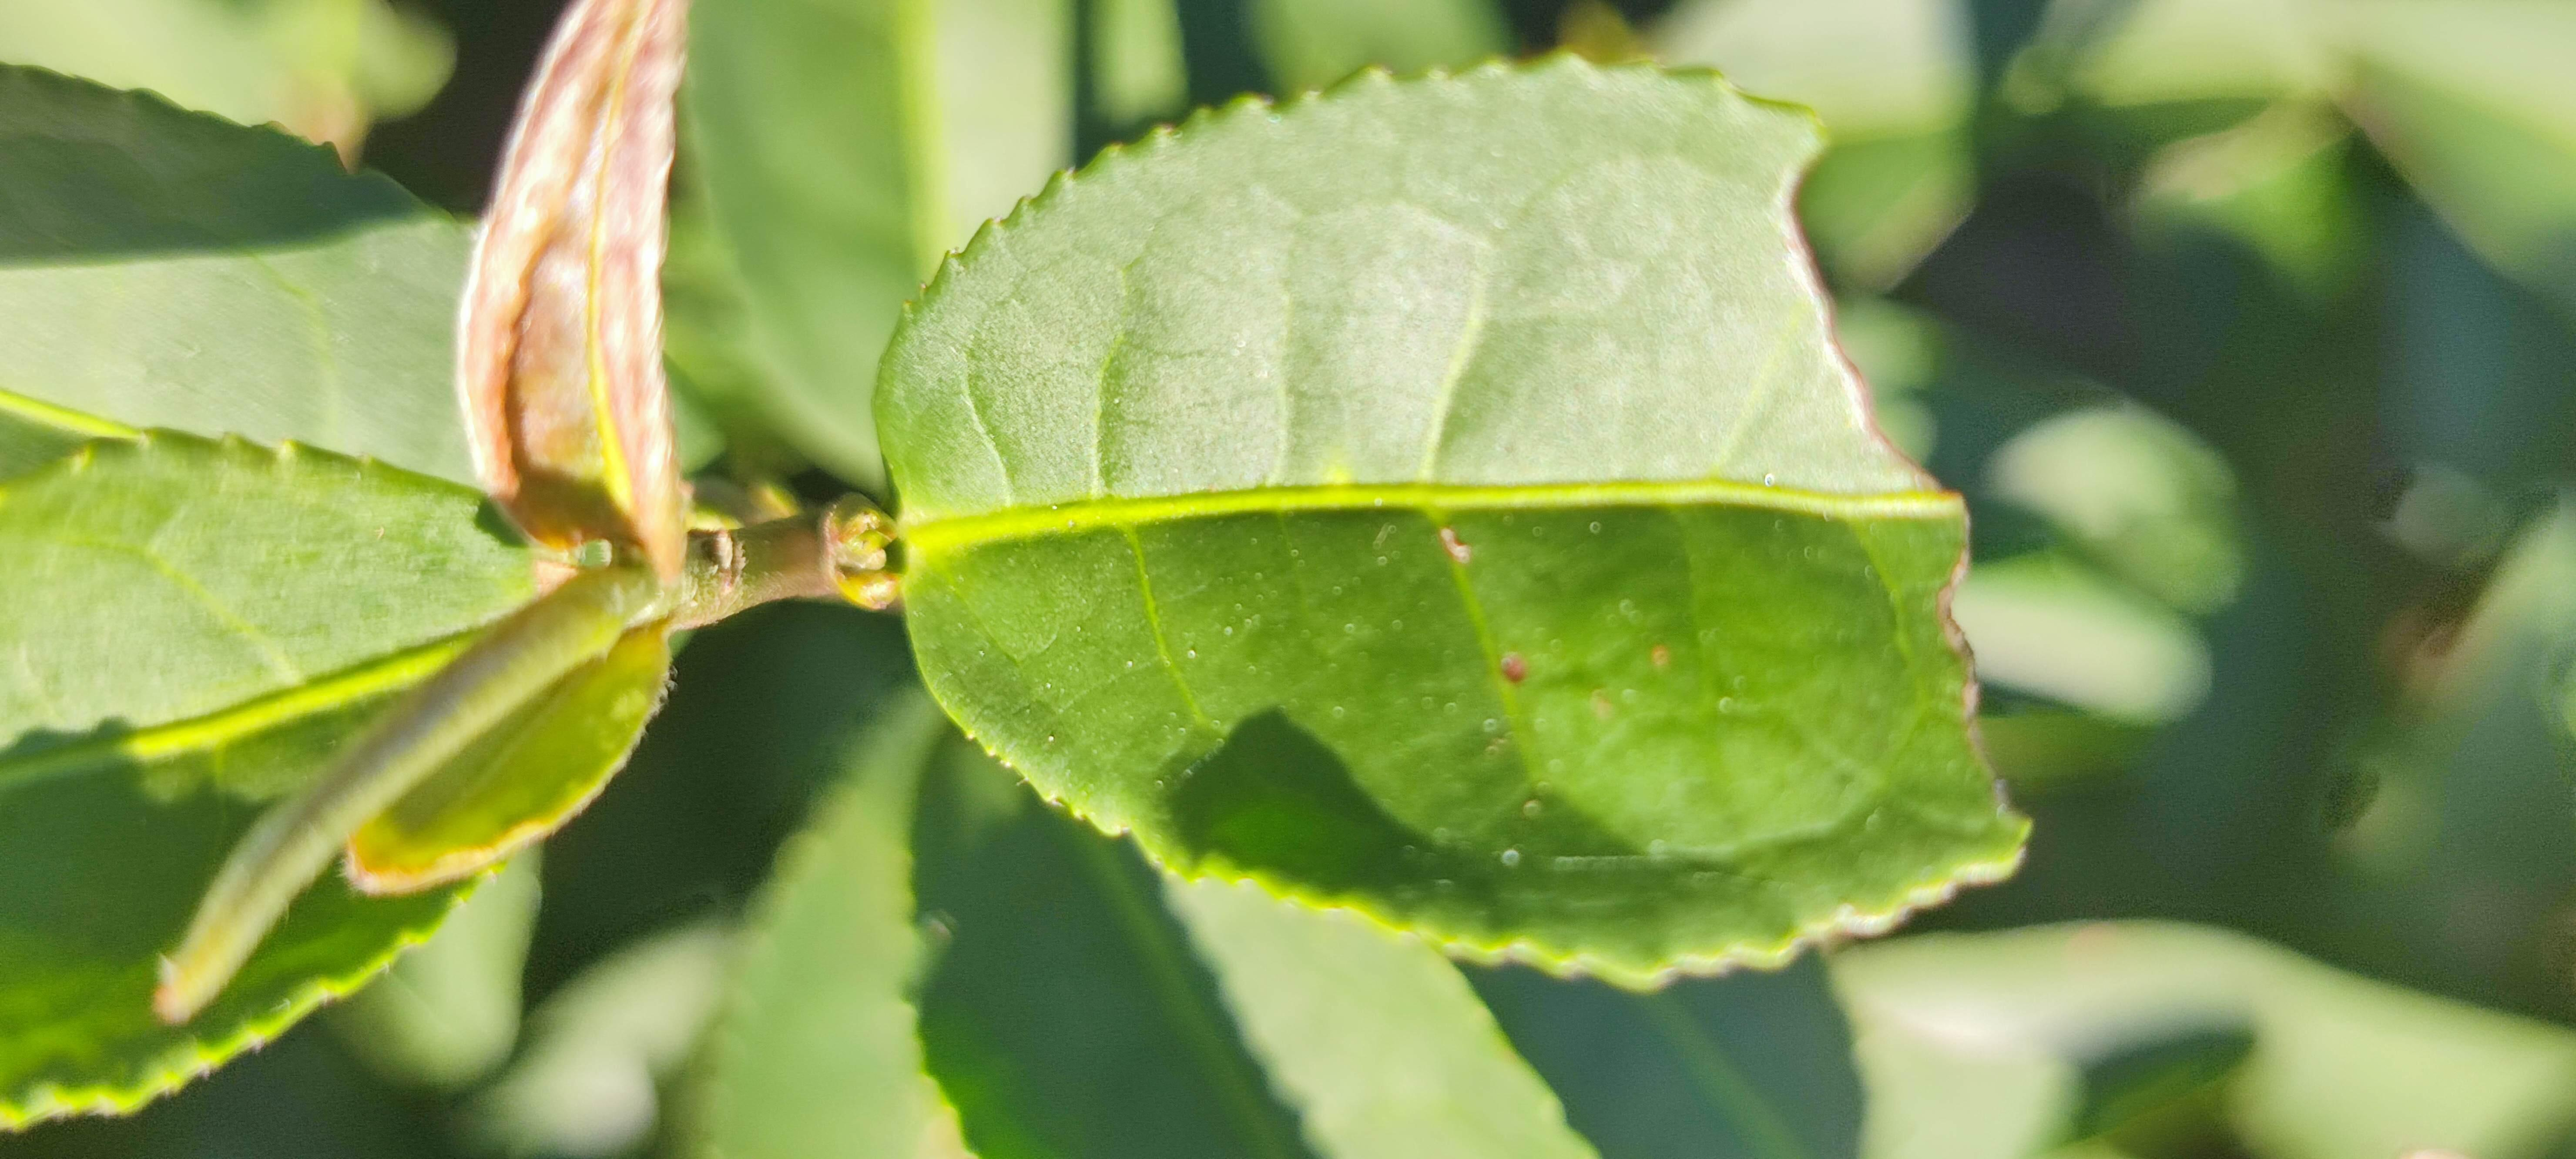chihuo_high: (871, 46, 2044, 995)
tanju_low: (447, 3, 693, 584)
